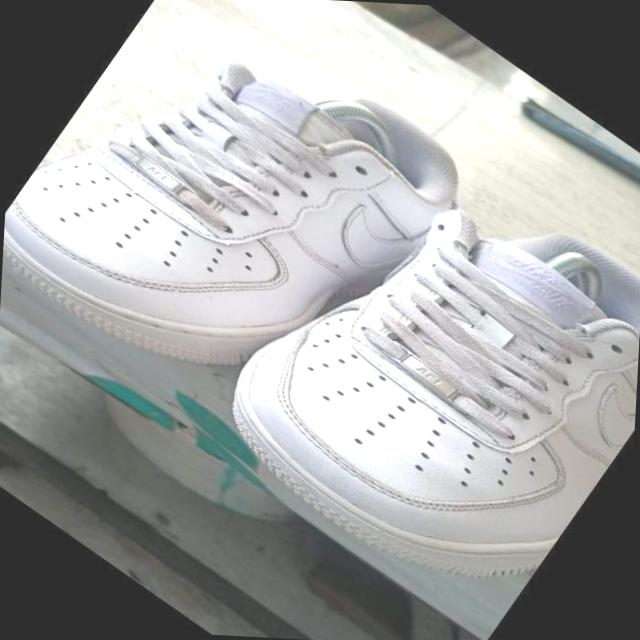nike_original_airforce: (181, 105, 640, 640), (0, 0, 493, 474)
